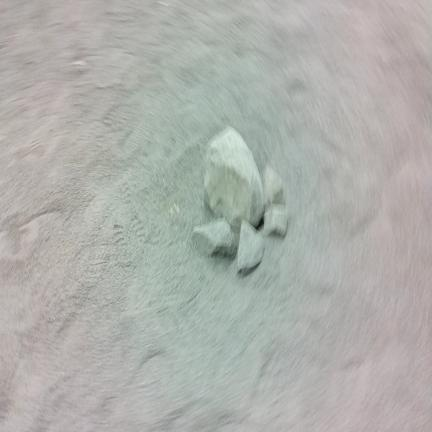Rock: (205, 127, 263, 226), (192, 219, 236, 255), (238, 221, 264, 272), (263, 166, 284, 209), (264, 205, 287, 236)
